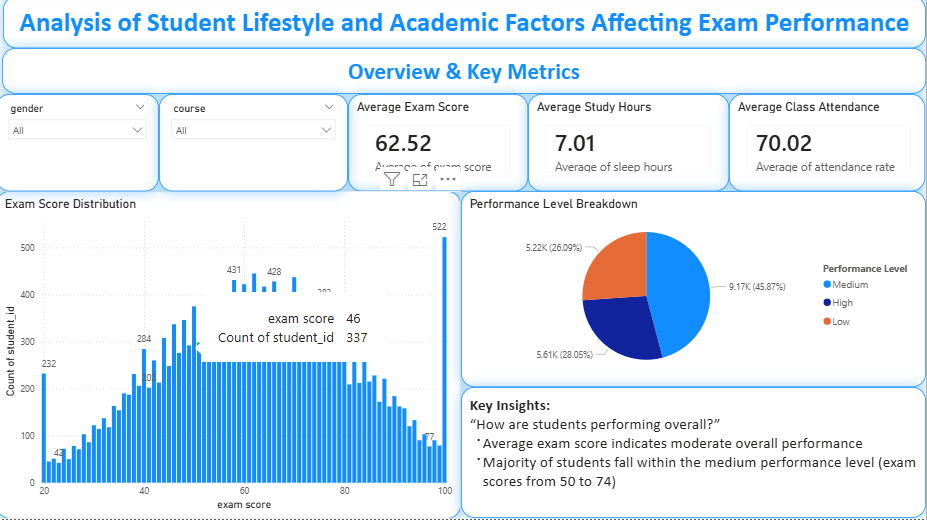

Layout of this report page (visuals, bound fields, positions):
{"tool":"powerbi","page":{"name":"Page 1","canvas":[1280,720],"ordinal":0},"visuals":[{"type":"textbox","box":[9.6,0,1270.4,71.6],"z":0},{"type":"textbox","box":[8.3,71.6,1271.7,63.3],"z":1000},{"type":"cardVisual","title":"Average Exam Score","fields":{"Data":["Avg(Exam_Score_Prediction.exam score)"]},"box":[484.5,134.9,247.7,133.5],"z":2000},{"type":"cardVisual","title":"Average Study Hours","fields":{"Data":["Avg(Exam_Score_Prediction.sleep hours)"]},"box":[732.2,134.9,276.6,133.5],"z":3000},{"type":"cardVisual","title":"Average Class Attendance","fields":{"Data":["Avg(Exam_Score_Prediction.attendance rate)"]},"box":[1008.9,134.9,269.8,133.5],"z":4000},{"type":"clusteredColumnChart","title":"Exam Score Distribution","fields":{"Y":["CountNonNull(Exam_Score_Prediction.student_id)"],"Category":["Exam_Score_Prediction.exam score"]},"box":[0,268.4,640,451.4],"z":5000},{"type":"pieChart","title":"Performance Level Breakdown","fields":{"Category":["Exam_Score_Prediction.Performance Level"],"Y":["CountNonNull(Exam_Score_Prediction.student_id)"]},"box":[640,268.4,640,269.8],"z":6000},{"type":"slicer","fields":{"Values":["Exam_Score_Prediction.gender"]},"box":[0,134.9,224.3,133.5],"z":7000},{"type":"slicer","fields":{"Values":["Exam_Score_Prediction.course"]},"box":[224.3,134.9,260.1,133.5],"z":8000},{"type":"textbox","box":[640,538.2,640,180.3],"z":9000}]}

Visuals, with their boxes in screenshot pixels (x1, y1, x2, y2), scaled from the page's 1280x720 canvas onto the 927x520 screenshot:
textbox: crop(7, 0, 926, 52)
textbox: crop(6, 52, 926, 97)
"Average Exam Score" cardVisual: crop(351, 97, 530, 194)
"Average Study Hours" cardVisual: crop(530, 97, 731, 194)
"Average Class Attendance" cardVisual: crop(731, 97, 926, 194)
"Exam Score Distribution" clusteredColumnChart: crop(0, 194, 464, 519)
"Performance Level Breakdown" pieChart: crop(464, 194, 926, 389)
slicer - Exam_Score_Prediction.gender: crop(0, 97, 162, 194)
slicer - Exam_Score_Prediction.course: crop(162, 97, 351, 194)
textbox: crop(464, 389, 926, 519)
